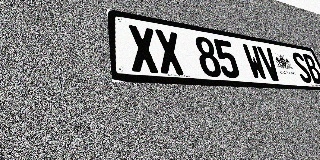5: (213, 39, 242, 79)
8: (193, 35, 223, 77)
B: (301, 53, 320, 84)
S: (290, 52, 314, 83)
V: (257, 46, 283, 81)
W: (241, 43, 269, 80)
X: (127, 24, 160, 73), (154, 29, 185, 75)
